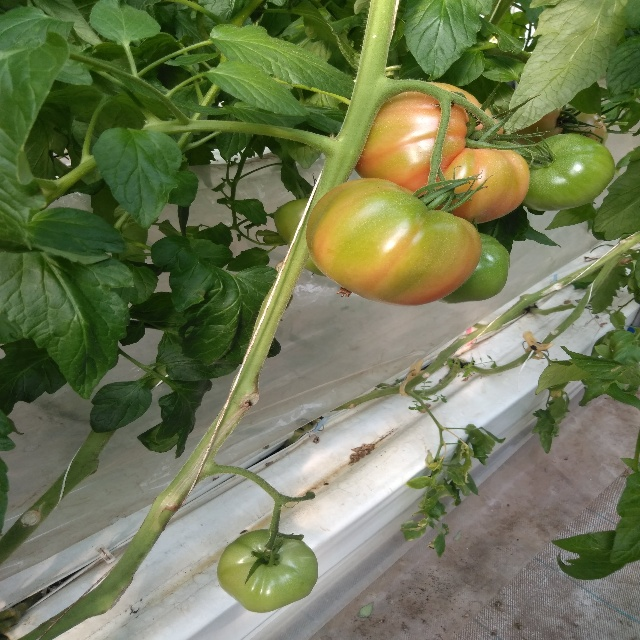b_green: (217, 528, 319, 614), (521, 133, 616, 212), (436, 233, 510, 304), (274, 198, 311, 243)
b_half_ripened: (354, 81, 530, 225), (306, 178, 483, 306)
